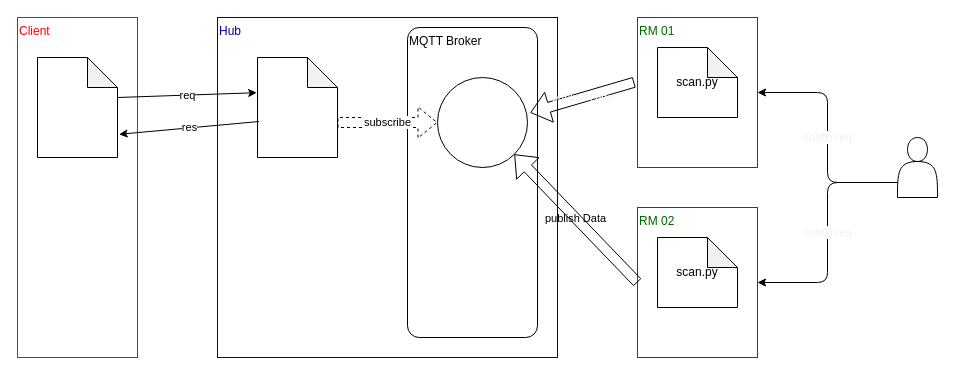
Image size: 955x375. Some labels were removed from this diagram. The centre of each missing label's shape, as x and y in pixels:
/btt/sensorData: the point at 482,122
Express Server: the point at 297,107
react App: the point at 77,107
